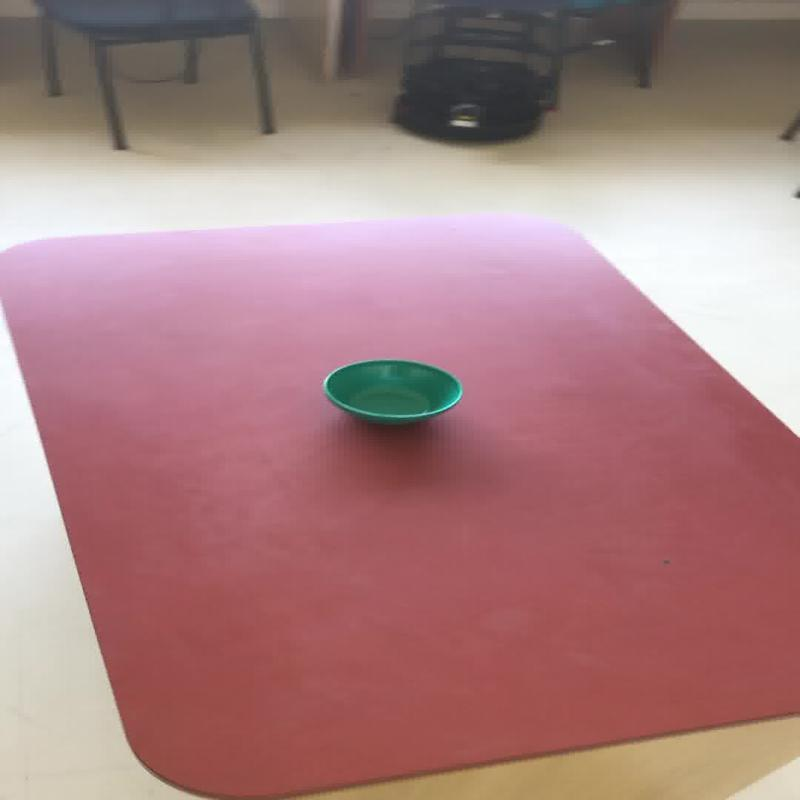bowl: (320, 357, 462, 425)
